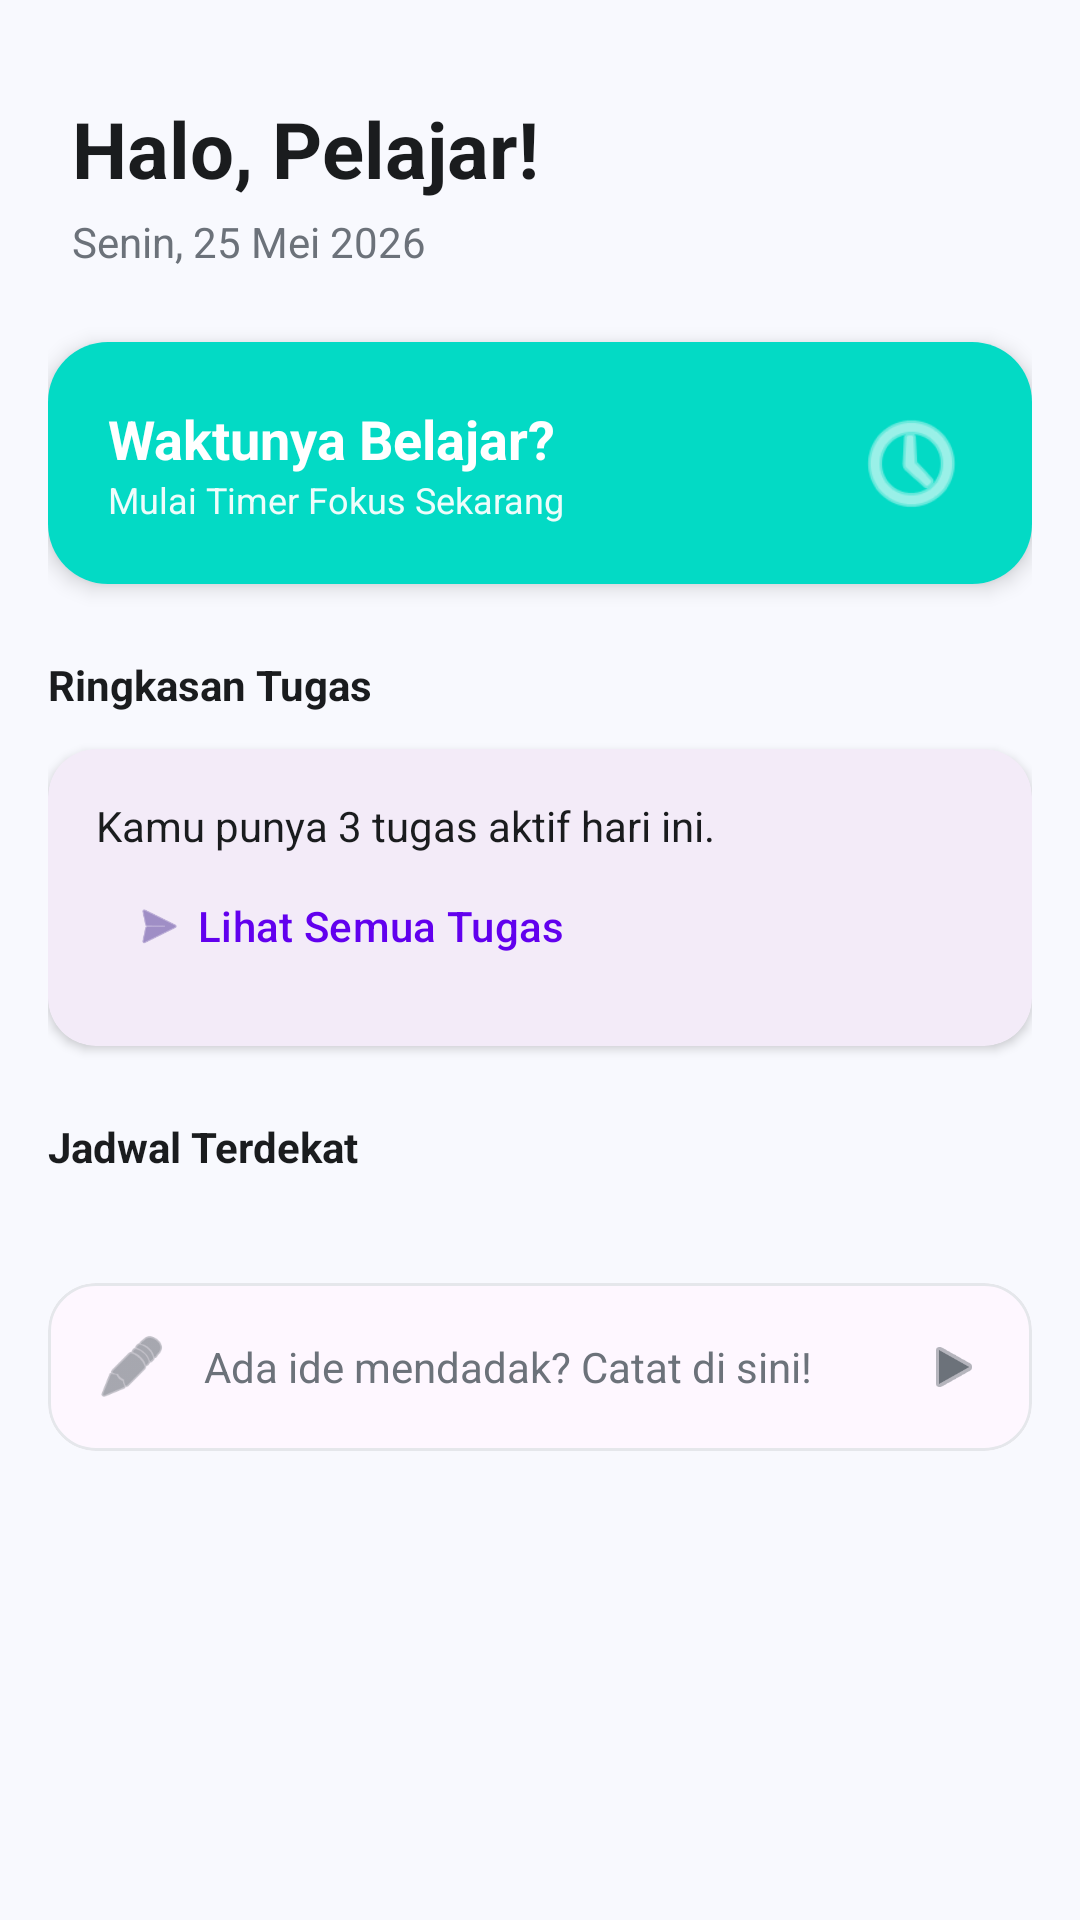

Locate icon controls on the screen. Image size 1080x1920, boxes as (left=x1, top=y1, right=x2, bottom=y2).
edit: (left=101, top=1336, right=162, bottom=1397)
play: (left=936, top=1347, right=972, bottom=1387)
recent history: (left=868, top=420, right=955, bottom=507)
